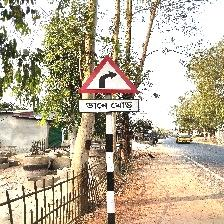Right-turn: (77, 55, 140, 115)
